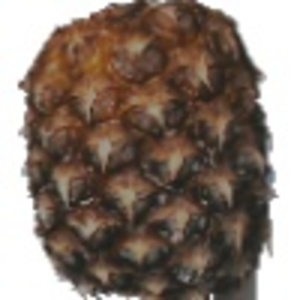abacaxi: (13, 3, 280, 294)
